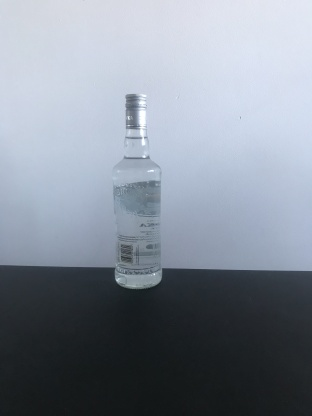nakretka: (123, 90, 149, 131)
